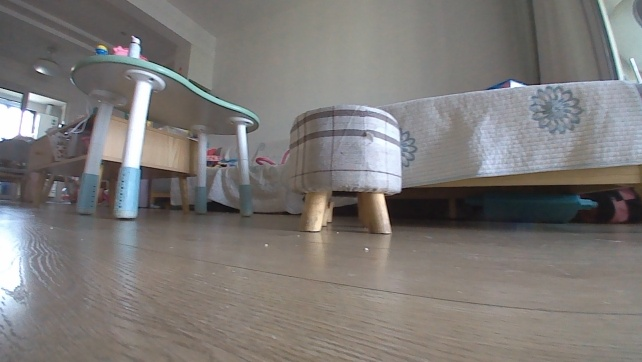sofa: (165, 136, 308, 216)
sofa1: (352, 75, 641, 221)
tea_table: (22, 113, 203, 214)
